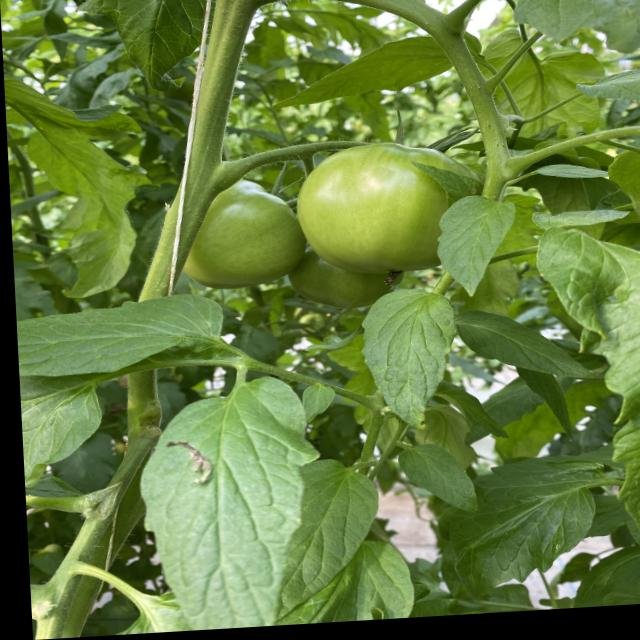yesil: (91, 132, 549, 320)
